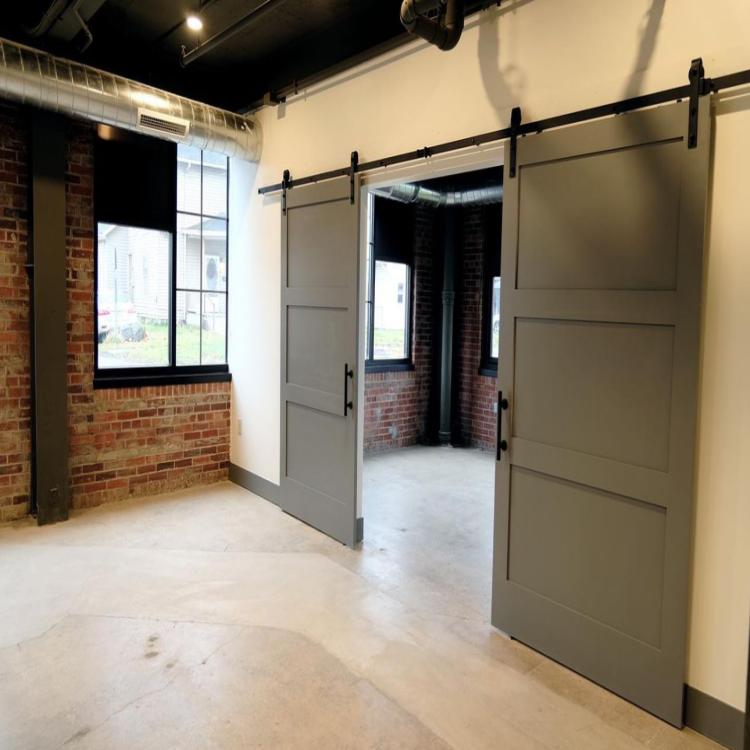OpenDoor: (357, 125, 510, 636)
